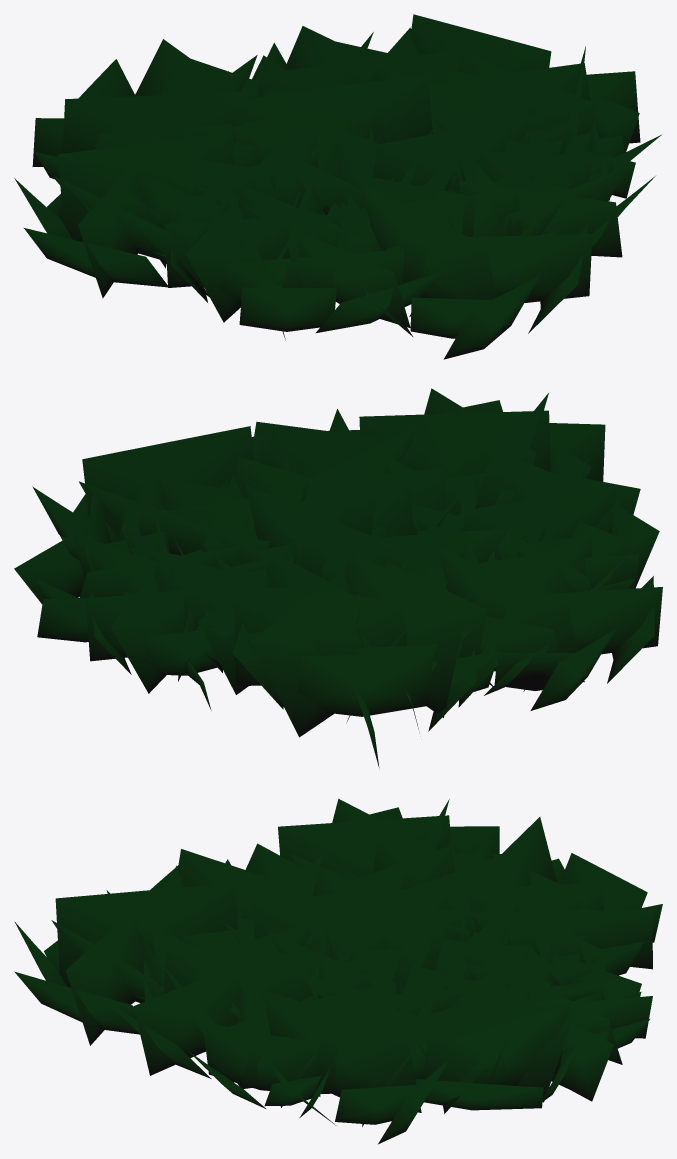
File: GrassSimpleClumpCATAM_C.fbx
The picture shows the model from 3 angles, top to bottom: view 1: azimuth 30°, elevation 25°; view 2: azimuth 150°, elevation 25°; view 3: azimuth 270°, elevation 25°; orthographic projection. The views are drawn at different scales.
Visible parts, largest first — view 1: LeavesClump_C_LOD0; view 2: LeavesClump_C_LOD0; view 3: LeavesClump_C_LOD0.
Part boxes in pixels (x1,y1,x2,y2): LeavesClump_C_LOD0: [14, 14, 661, 359]; LeavesClump_C_LOD0: [14, 388, 662, 767]; LeavesClump_C_LOD0: [14, 798, 662, 1144].
Size of what is drawn, in the model's own units: 4.02 by 0.8419 by 3.81.
